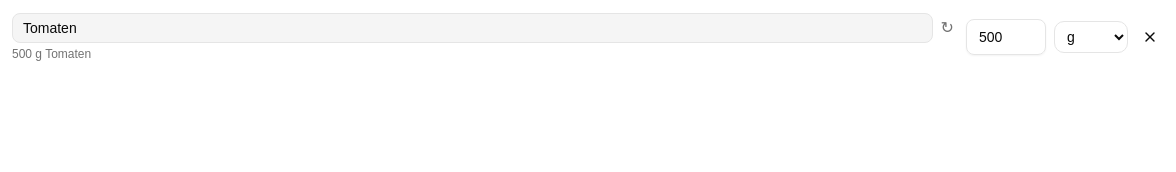
Test: EditableIngredientRow › ↻ override button on a locked chip unlocks the row and opens the catalog search with the ingredient name as query
The image size is (1176, 172).
Expected: the text "Tomaten" is shown, [12,13,933,43]
Click the button named "zutat ändern" at (947, 28), box [937,12,958,44]
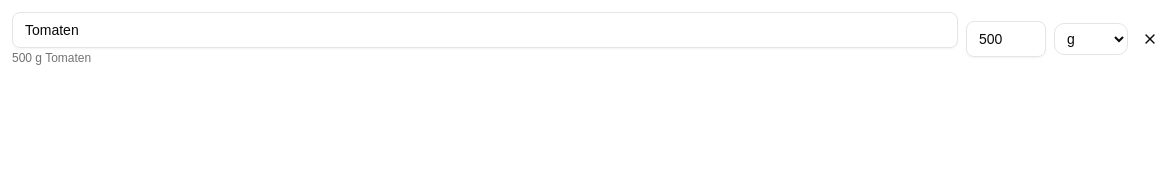
Now the dropdown named "Zutat" holds "Tomaten", box [12,12,958,48]
